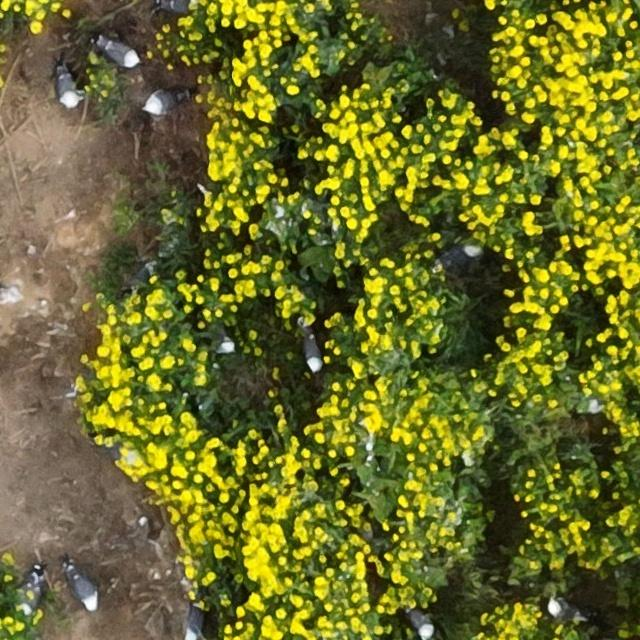umineko: (18, 568, 42, 616), (72, 571, 98, 609), (435, 245, 477, 268), (104, 42, 140, 67), (302, 330, 322, 372), (145, 91, 182, 112), (58, 71, 79, 106), (407, 609, 433, 637), (212, 330, 240, 355), (548, 602, 580, 621), (158, 0, 192, 11)
